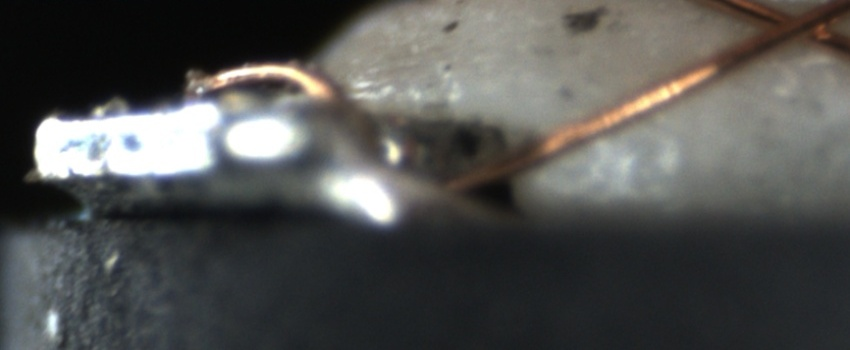CL: (752, 1, 839, 48)
TE: (180, 50, 354, 120)
